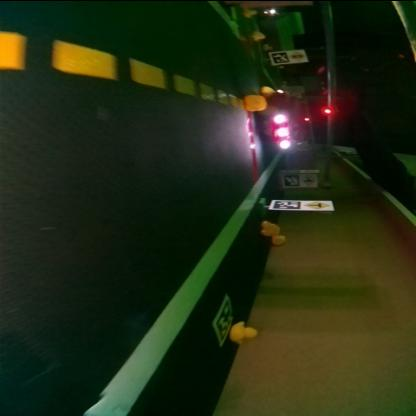Duckie: (230, 321, 256, 340), (247, 93, 267, 108), (262, 220, 280, 234), (262, 85, 276, 95), (273, 233, 286, 243), (245, 6, 258, 16), (254, 30, 265, 40)
Intersection sign: (307, 199, 329, 208), (304, 174, 316, 184)
QR code: (214, 294, 233, 342), (274, 199, 302, 208), (284, 172, 300, 186), (275, 50, 289, 62)
Signal sign: (291, 49, 307, 61)
Traffic light: (324, 107, 332, 112)
